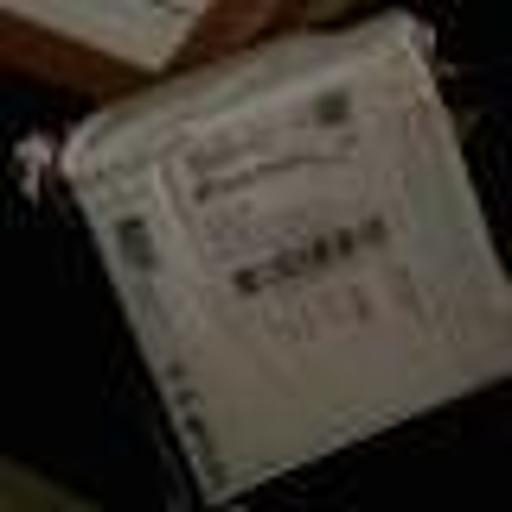Other: (70, 33, 512, 492)
